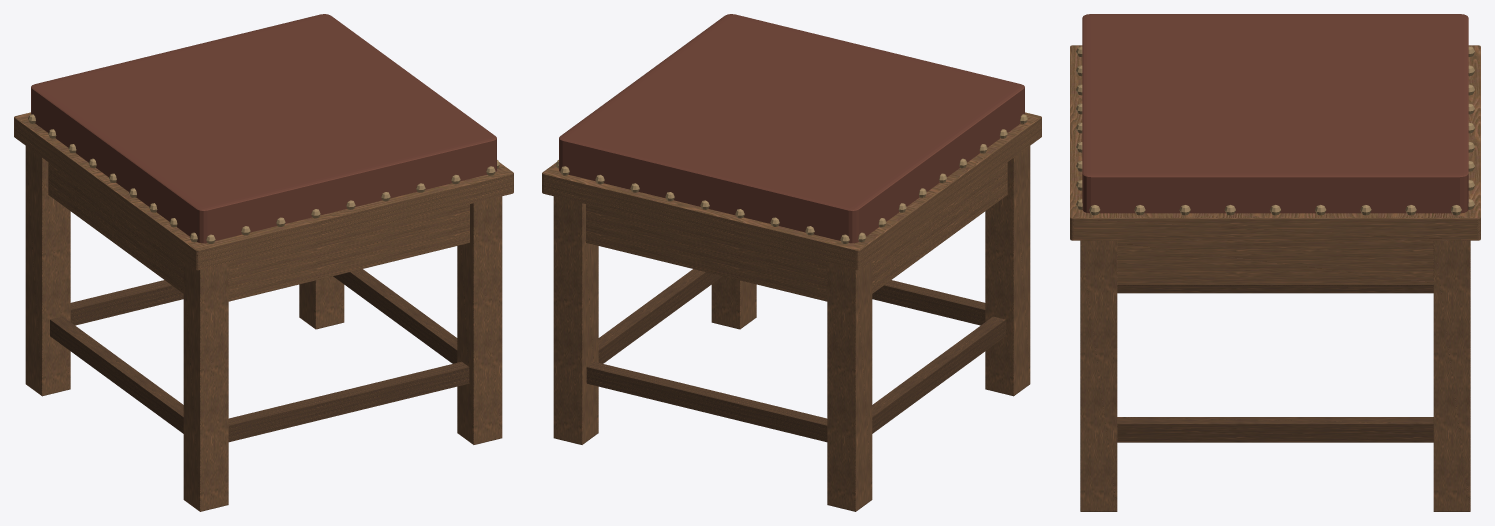
Rendered from stool.glb.
The picture shows the model from 3 angles, left to right: view 1: azimuth 30°, elevation 25°; view 2: azimuth 150°, elevation 25°; view 3: azimuth 270°, elevation 25°; orthographic projection. The views are drawn at different scales.
Parts seen in each view (by area): view 1: m10_stool; view 2: m10_stool; view 3: m10_stool.
Part boxes in pixels (x1,y1,x2,y2): m10_stool: [14, 14, 513, 511]; m10_stool: [542, 14, 1041, 511]; m10_stool: [1070, 14, 1480, 511].
Bounding box in the file's own units: 0.5 × 0.45 × 0.5.
4 materials, 2 textured.
